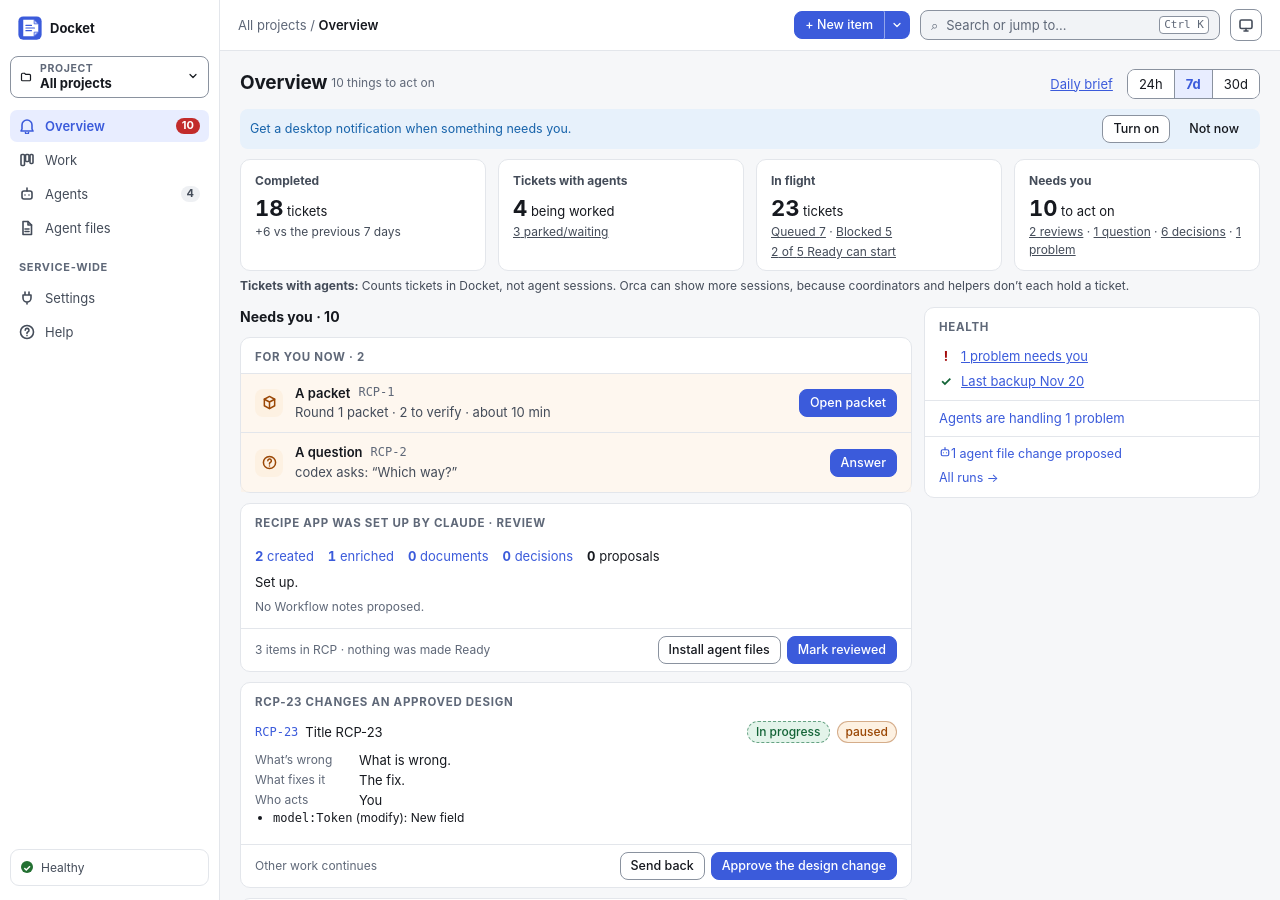
Test case: every owner action still works from Overview › a packet opens its review, and a question takes an answer inline
Expected: the heading "Needs you · 10" is shown, [240,308,340,325]
Click the button with aria-label "Answer codex on RCP-2": (863, 463) [830,449,897,477]
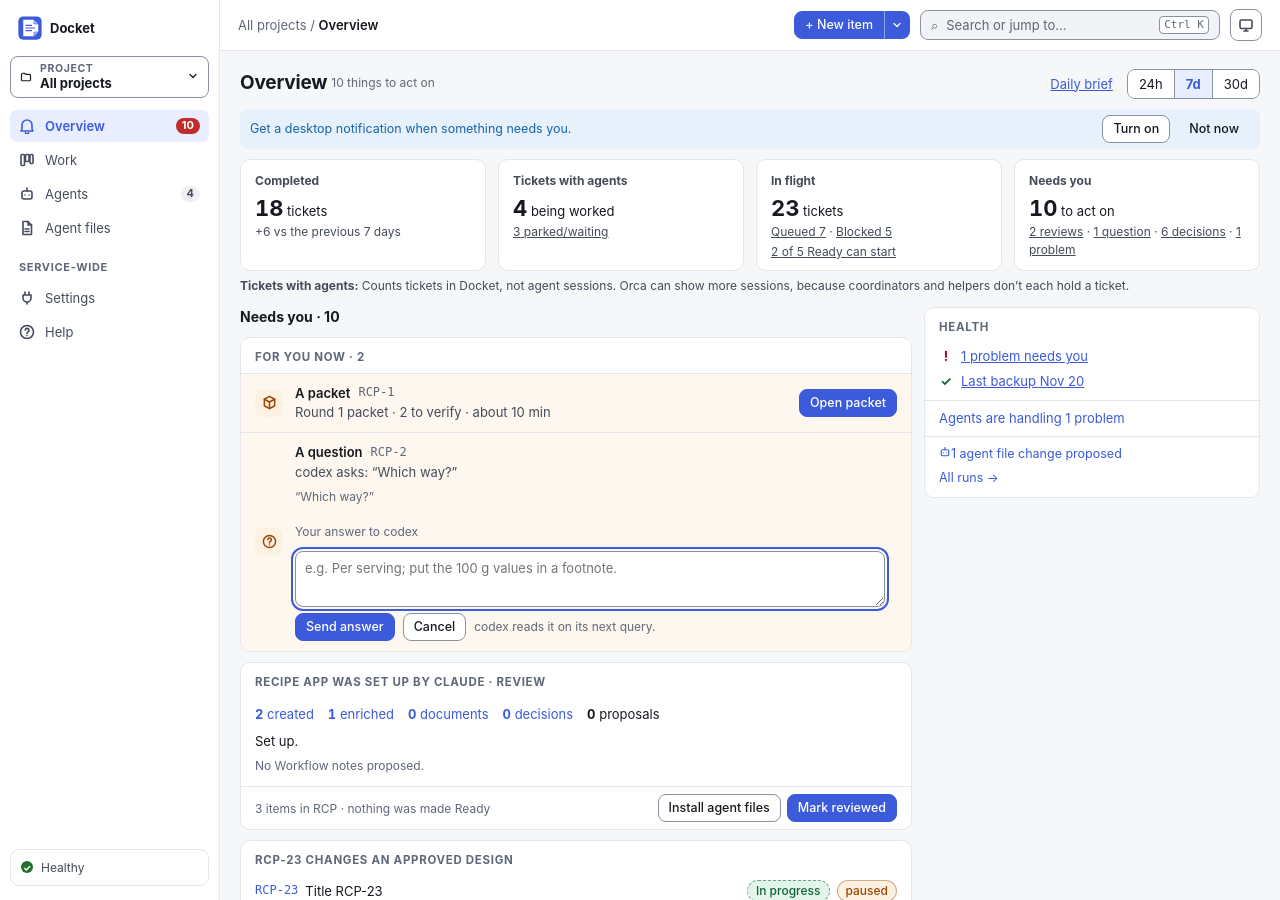
Now the text box labelled "Your answer to codex" is shown, box [295,551,885,607]
